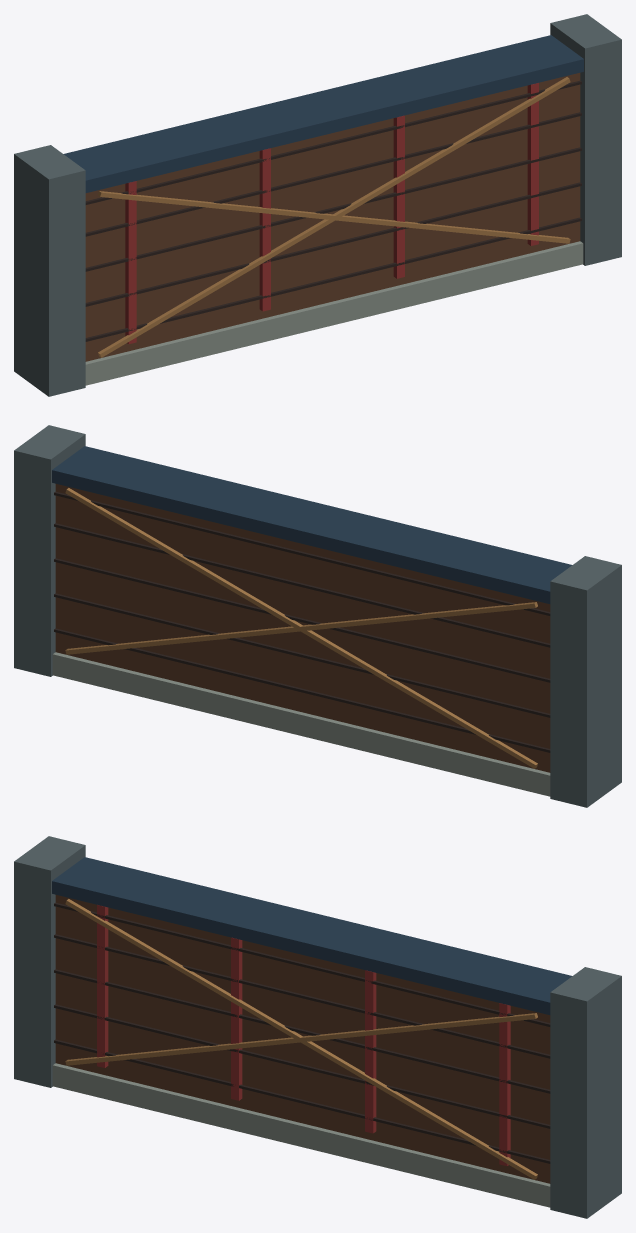
The model's file is PirateCove_BoundaryWall_Standard.glb.
The picture shows the model from 3 angles, top to bottom: view 1: azimuth 30°, elevation 25°; view 2: azimuth 150°, elevation 25°; view 3: azimuth 330°, elevation 25°; orthographic projection.
Visible parts, largest first — view 1: PirateCove_BoundaryWall_Standard; view 2: PirateCove_BoundaryWall_Standard; view 3: PirateCove_BoundaryWall_Standard.
Boxes of the visible parts, x1,y1,x2,y2 form: PirateCove_BoundaryWall_Standard: [14, 14, 621, 396]; PirateCove_BoundaryWall_Standard: [14, 425, 621, 807]; PirateCove_BoundaryWall_Standard: [14, 836, 621, 1218].
Size of the model in its own units: 8.55 by 3.1 by 0.9.
